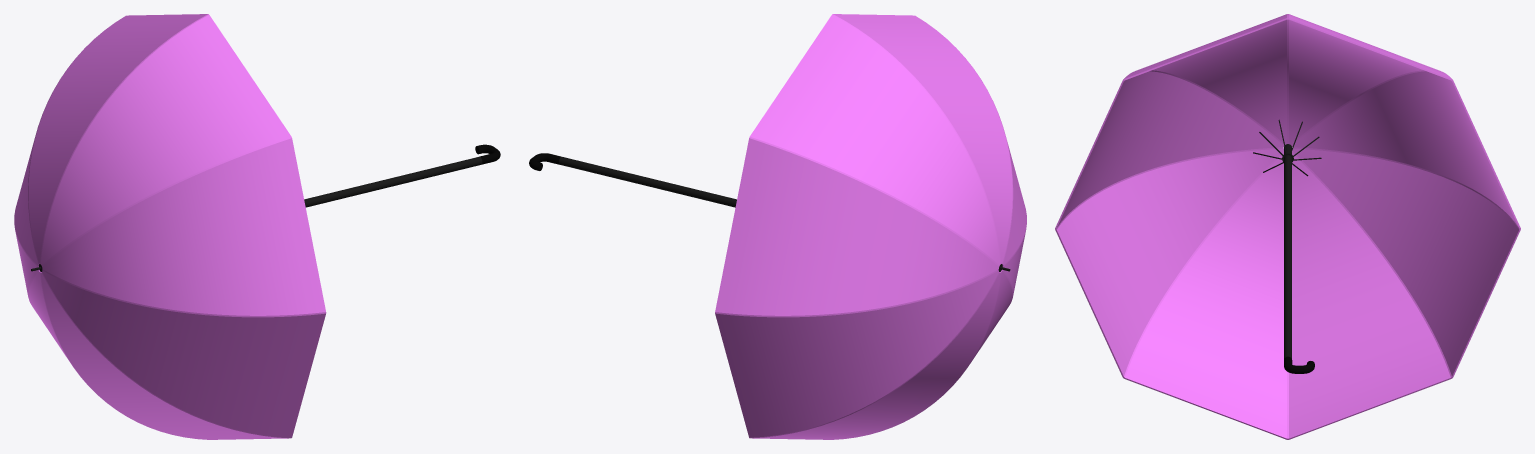
Rendered from ParapluieExport.fbx.
3 views of the same model, side by side, from view 1: azimuth 30°, elevation 25°; view 2: azimuth 150°, elevation 25°; view 3: azimuth 270°, elevation 25° (orthographic).
Parts seen in each view (by area): view 1: Arc017, Arc016, Arc005, Arc015, Arc011, Cylinder001, Arc014, Arc012; view 2: Arc014, Arc015, Arc013, Arc016, Arc012, Cylinder001, Arc017, Arc011; view 3: Arc012, Arc011, Arc005, Arc013, Arc017, Arc014, Arc016, Arc015, Cylinder001, Cylinder002.
Boxes of the visible parts, left/top/right/bottom form: Arc017: left=42, top=136, right=325, bottom=317; Arc016: left=40, top=14, right=291, bottom=266; Arc005: left=42, top=269, right=326, bottom=437; Arc015: left=28, top=14, right=207, bottom=263; Arc011: left=40, top=271, right=291, bottom=439; Cylinder001: left=38, top=156, right=482, bottom=271; Arc014: left=14, top=143, right=39, bottom=266; Arc012: left=28, top=270, right=86, bottom=383; Arc014: left=715, top=138, right=999, bottom=317; Arc015: left=749, top=15, right=1000, bottom=265; Arc013: left=715, top=269, right=999, bottom=438; Arc016: left=832, top=14, right=1012, bottom=263; Arc012: left=752, top=272, right=1001, bottom=439; Cylinder001: left=559, top=156, right=1002, bottom=271; Arc017: left=970, top=64, right=1026, bottom=266; Arc011: left=971, top=270, right=1013, bottom=361; Arc012: left=1287, top=151, right=1451, bottom=439; Arc011: left=1123, top=151, right=1288, bottom=439; Arc005: left=1055, top=147, right=1283, bottom=377; Arc013: left=1292, top=147, right=1520, bottom=378; Arc017: left=1055, top=71, right=1285, bottom=229; Arc014: left=1291, top=70, right=1520, bottom=229; Arc016: left=1124, top=14, right=1288, bottom=144; Arc015: left=1287, top=14, right=1452, bottom=144; Cylinder001: left=1284, top=144, right=1291, bottom=358; Cylinder002: left=1253, top=119, right=1321, bottom=176.
Bounding box in the file's own units: 64.38 × 55.48 × 55.48.
